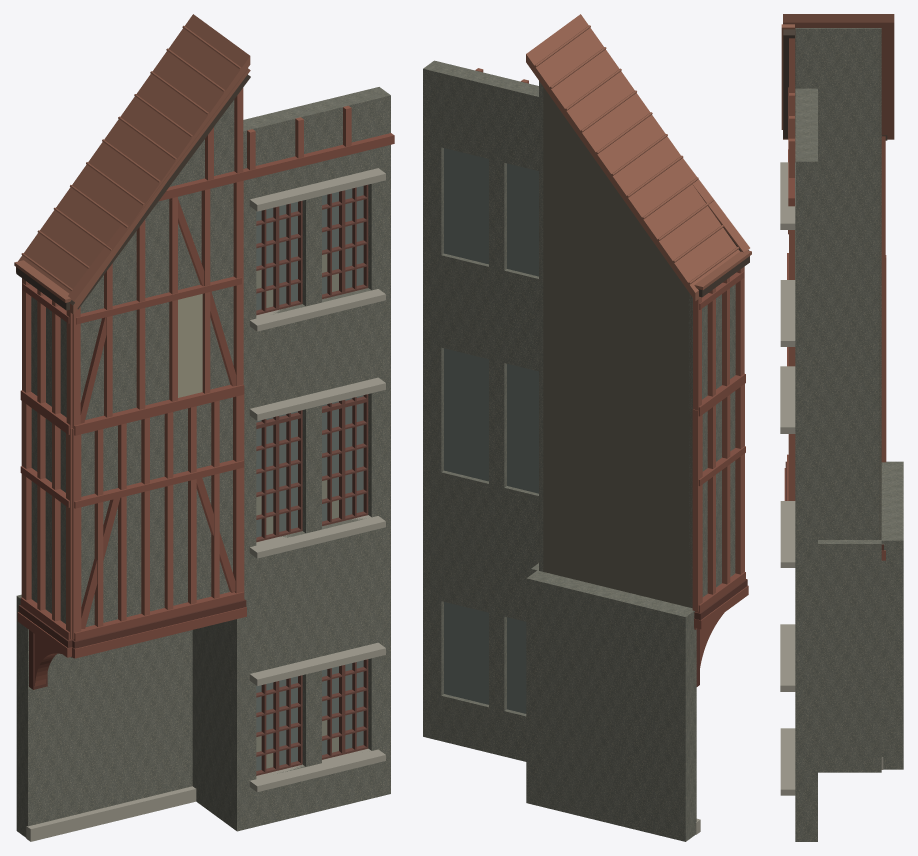
The model's file is xuhui-anfu-284-timber-jetty-web.glb.
The picture shows the model from 3 angles, left to right: view 1: azimuth 30°, elevation 25°; view 2: azimuth 150°, elevation 25°; view 3: azimuth 270°, elevation 25°; orthographic projection. The views are drawn at different scales.
Visible parts, largest first — view 1: 安福路284号花园住宅露木构悬挑窗楼; view 2: 安福路284号花园住宅露木构悬挑窗楼; view 3: 安福路284号花园住宅露木构悬挑窗楼.
Part boxes in pixels (x1,y1,x2,y2): 安福路284号花园住宅露木构悬挑窗楼: (14,14,394,841); 安福路284号花园住宅露木构悬挑窗楼: (423,14,751,841); 安福路284号花园住宅露木构悬挑窗楼: (780,14,903,841).
Bounding box in the file's own units: 4.7 × 10.63 × 1.57.
12 materials, 1 textured.
